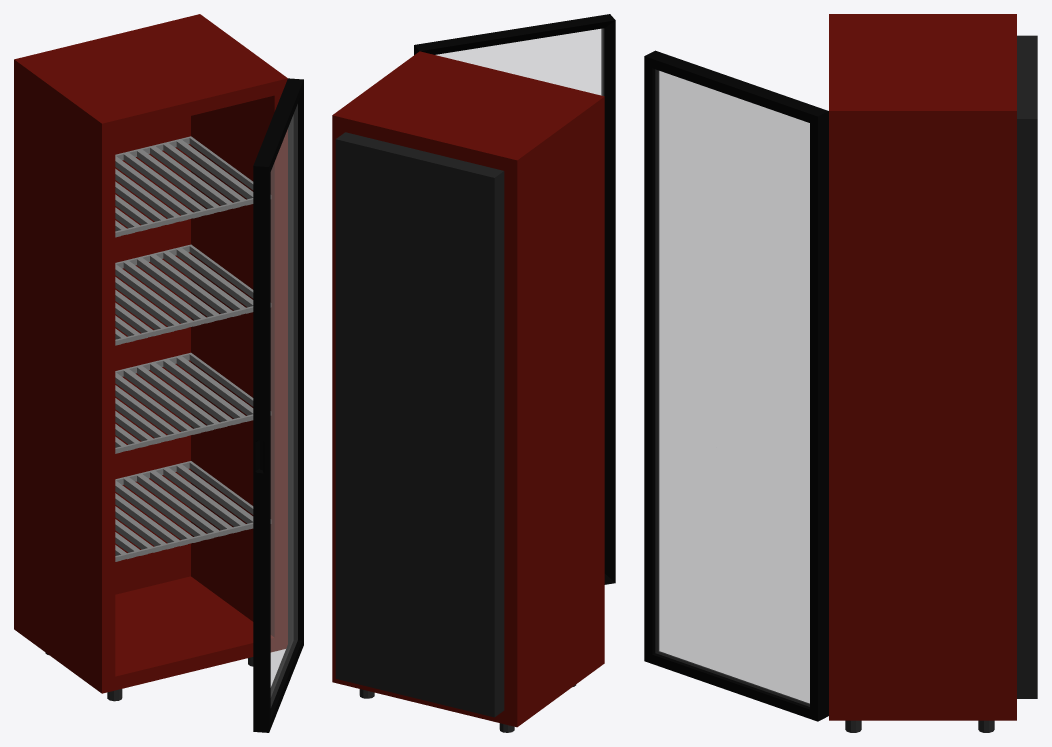
The model's file is Beverage.glb.
The picture shows the model from 3 angles, left to right: view 1: azimuth 30°, elevation 25°; view 2: azimuth 150°, elevation 25°; view 3: azimuth 270°, elevation 25°; orthographic projection. The views are drawn at different scales.
Parts seen in each view (by area): view 1: BeverageCabinet, Grill, CabinetDoor; view 2: BeverageCabinet, CabinetDoor; view 3: BeverageCabinet, CabinetDoor.
Boxes of the visible parts, left/top/right/bottom form: BeverageCabinet: left=14, top=14, right=287, bottom=701; Grill: left=115, top=136, right=271, bottom=561; CabinetDoor: left=253, top=78, right=303, bottom=732; BeverageCabinet: left=332, top=51, right=604, bottom=732; CabinetDoor: left=414, top=14, right=615, bottom=584; BeverageCabinet: left=829, top=14, right=1037, bottom=732; CabinetDoor: left=644, top=50, right=828, bottom=721.
Size of the model in its own units: 2.58 by 7.39 by 4.18.
